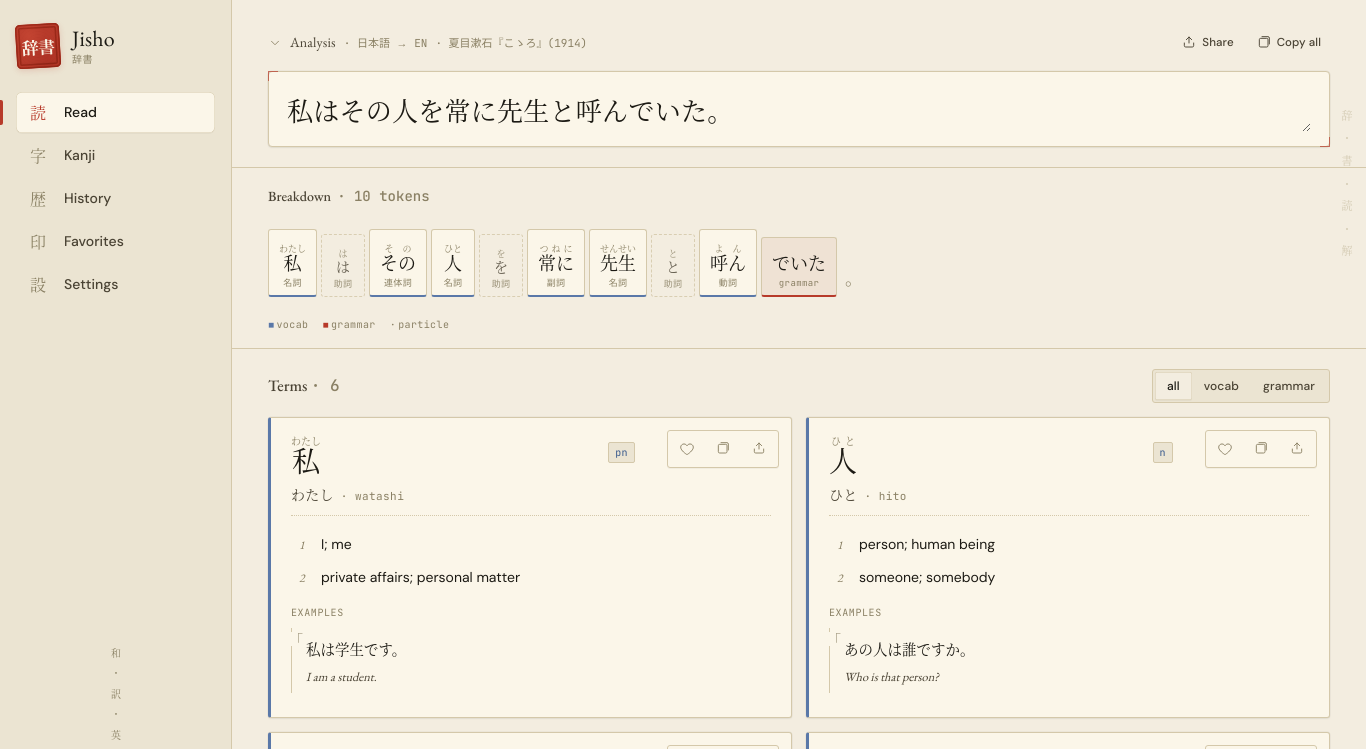
History screen › clicking a history row replays the analysis on the Read screen
The width and height of the screenshot is (1366, 749).
Replace the text in the text box with placeholder "日本語 or English · type or paste to look up" with "別の文": (799, 110) [287,88,1311,132]
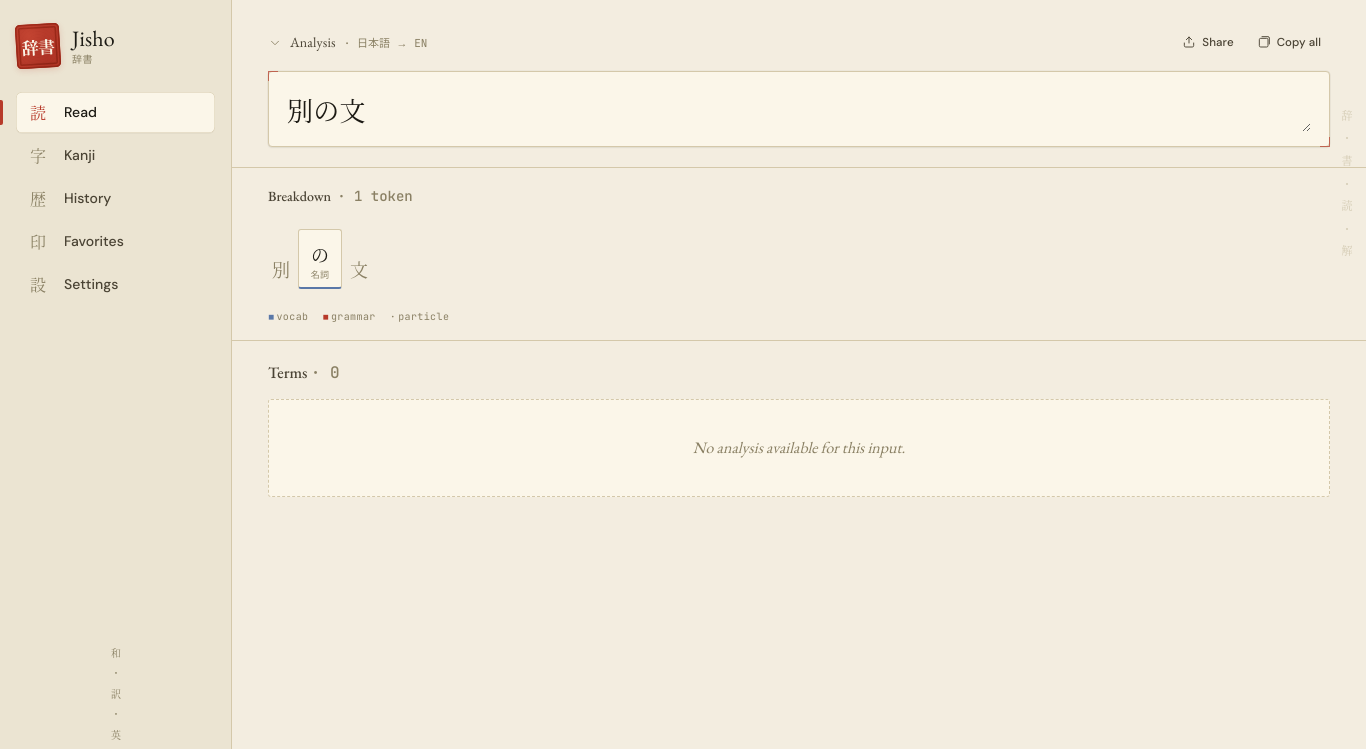
Expected: the text "No analysis available for this input." is shown, [268,399,1330,497]
Click the button "歴 History": click(116, 198) [16,178,215,219]
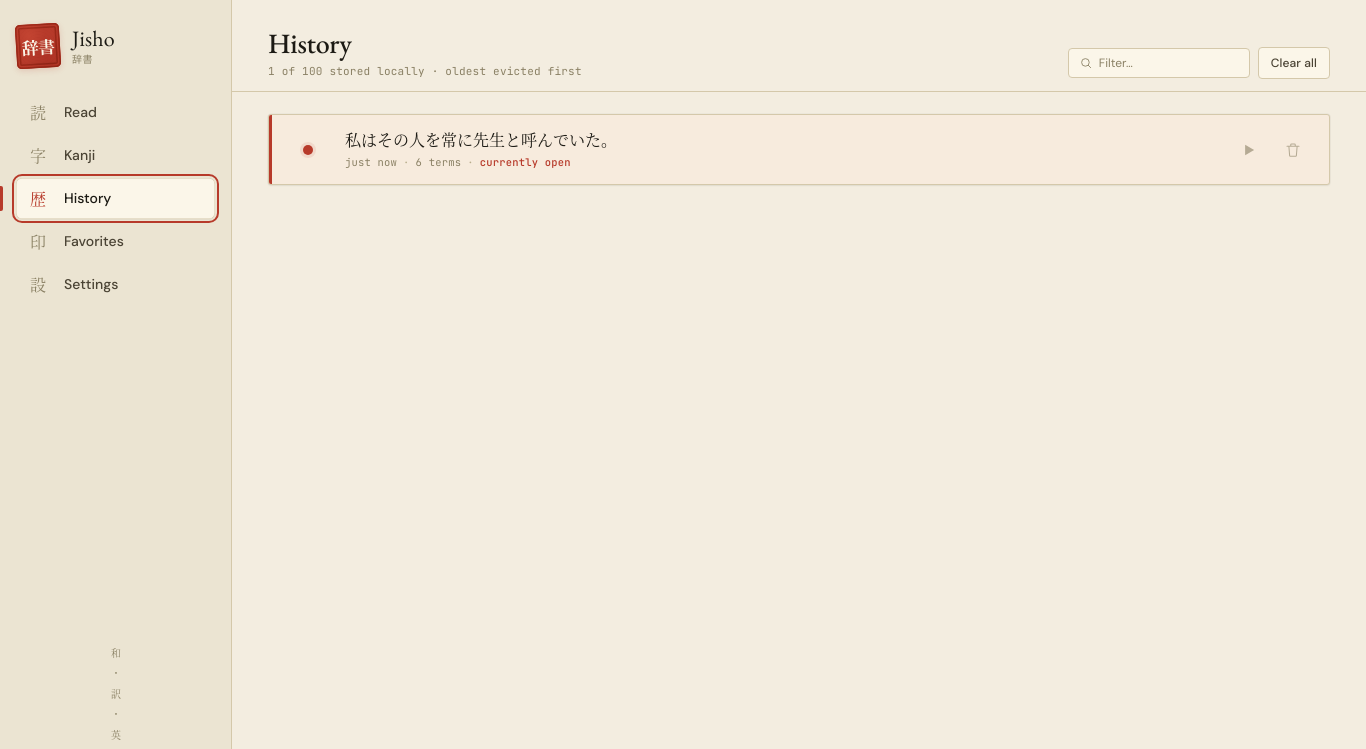
Click the button named "replay": click(1249, 150) [1229,130,1269,170]
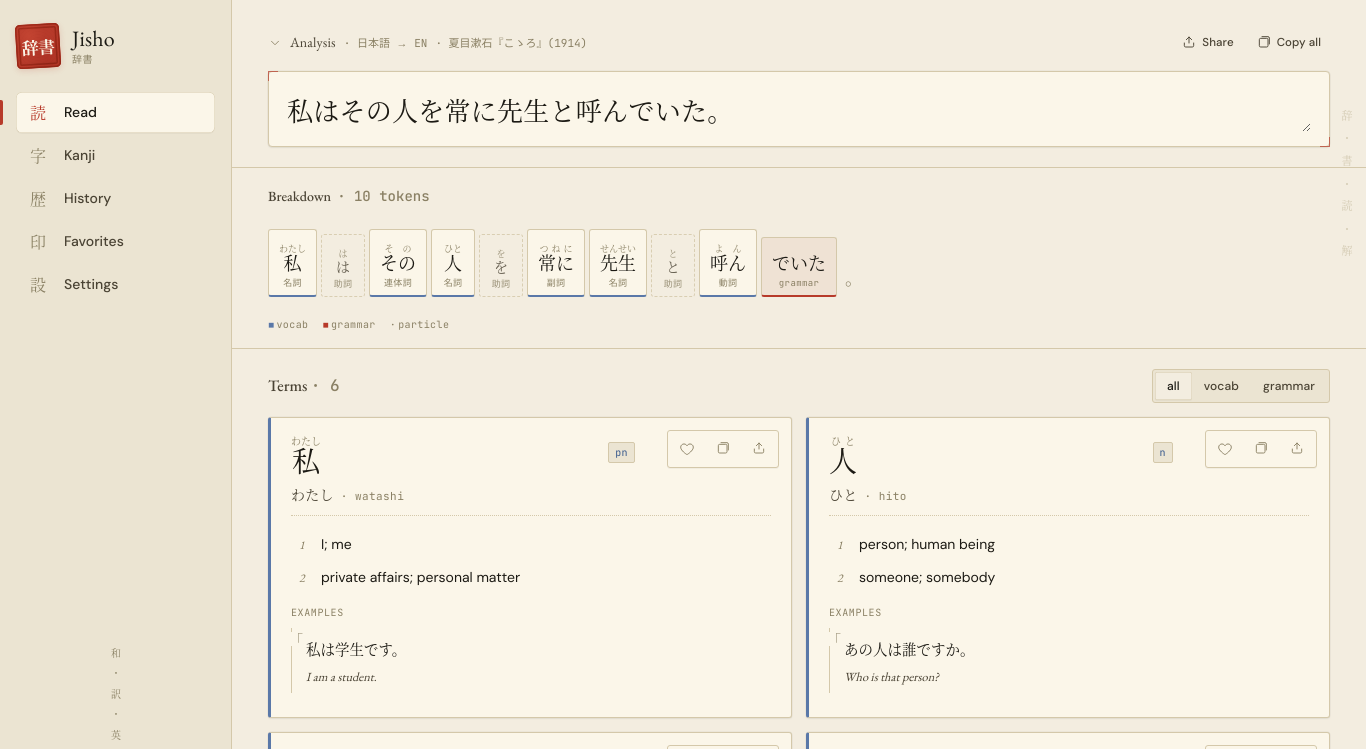
Expected: the text box with placeholder "日本語 or English · type or paste to look up" holds "私はその人を常に先生と呼んでいた。", [287,88,1311,132]
